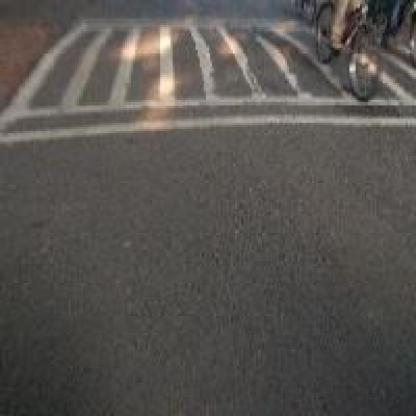Speed Bump: (0, 10, 298, 144)
